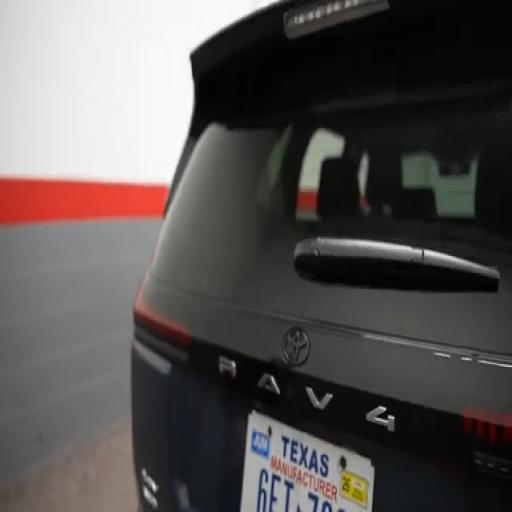emblem: (283, 328, 310, 366)
taillight: (133, 269, 191, 347), (462, 409, 511, 445)
trunk: (132, 2, 511, 511), (132, 284, 511, 511)
